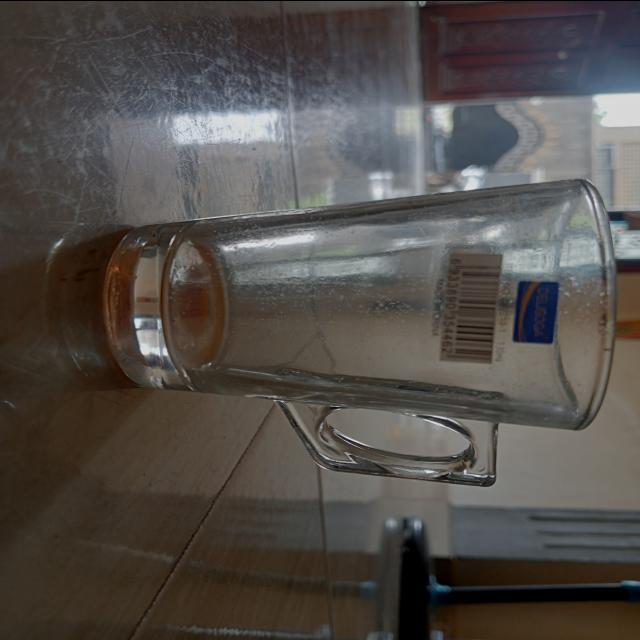glass-VX4N: (102, 178, 614, 484)
